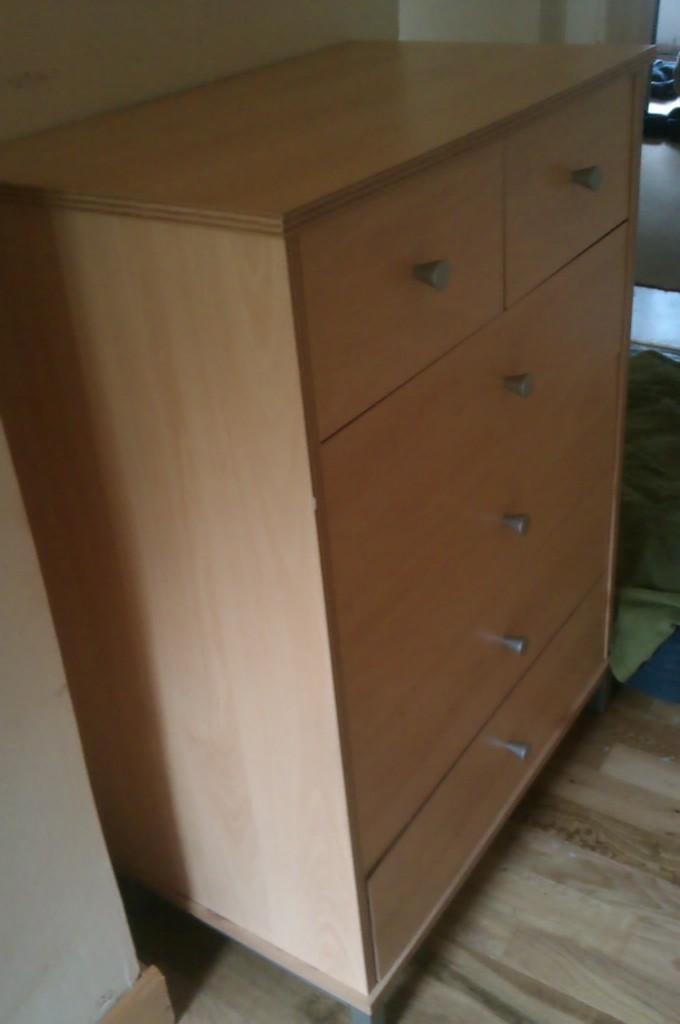cabinet_door: (308, 334, 622, 451), (324, 468, 606, 570), (303, 195, 499, 337), (328, 582, 588, 684), (338, 710, 558, 829), (510, 124, 630, 244)
handle: (503, 490, 537, 558), (502, 356, 537, 421), (500, 722, 536, 782), (412, 250, 455, 298), (572, 146, 604, 206), (498, 608, 531, 666)
